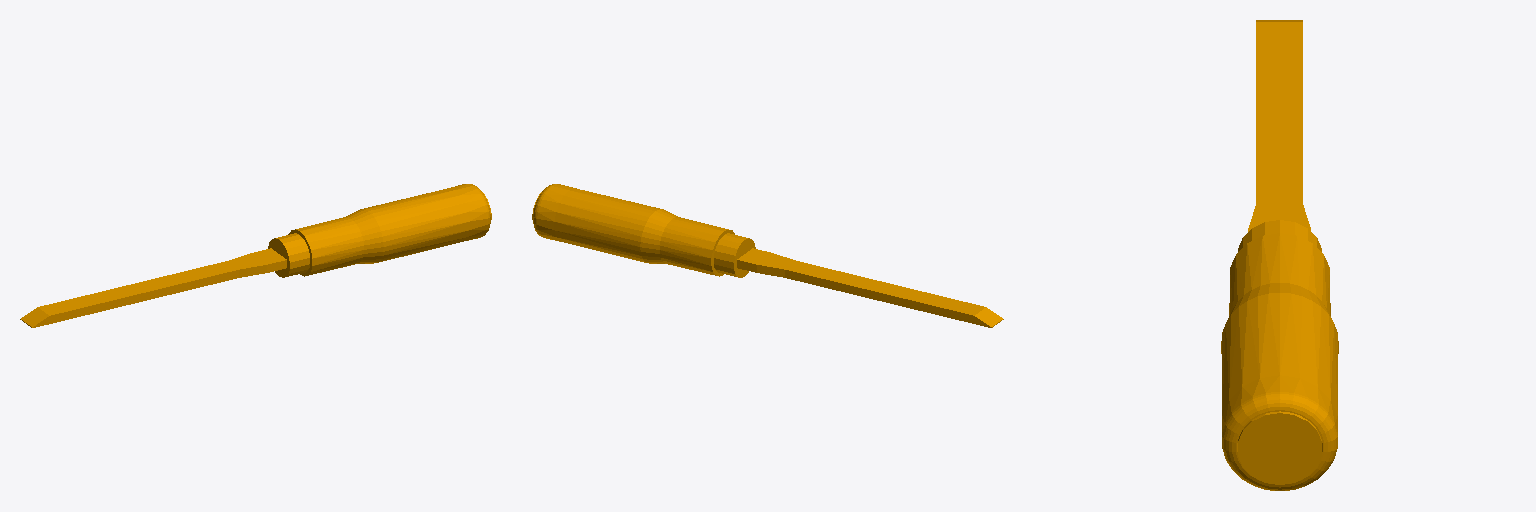
The robot description file, URDF, robot "chisel_1_L0.98_T0.91":
<?xml version="1.0" encoding="utf-8"?>
<robot name="chisel_1_L0.98_T0.91">
  <link name="chisel_1_L0.98_T0.91Link">
    <contact>
      <lateral_friction value="1"/>
    </contact>
    <inertial>
      <origin rpy="0 0 0" xyz="0 0 0"/>
      <mass value="0.0"/>
      <inertia ixx="0" ixy="0" ixz="0" iyy="0" iyz="0" izz="0"/>
    </inertial>
    <visual>
      <origin rpy="0 0 0" xyz="0 0 0"/>
      <geometry>
        <mesh filename="generated_stl/chisel/chisel_1/chisel_1_L0.98_T0.91/chisel_1_L0.98_T0.91.stl" scale="0.01 0.01 0.01"/>
      </geometry>
    </visual>
    <collision>
      <origin rpy="0 0 0" xyz="0 0 0"/>
      <geometry>
        <mesh filename="generated_stl/chisel/chisel_1/chisel_1_L0.98_T0.91/chisel_1_L0.98_T0.91.stl" scale="0.01 0.01 0.01"/>
      </geometry>
    </collision>
  </link>
</robot>

--- What the picture shows (computed from the rendered views, not written in the file) ---
The picture shows the robot from 3 angles, left to right: view 1: azimuth 30°, elevation 25°; view 2: azimuth 150°, elevation 25°; view 3: azimuth 270°, elevation 25°; orthographic projection.
Robot: chisel_1_L0.98_T0.91 — 1 links, 0 joints (none); root link chisel_1_L0.98_T0.91Link; default pose: every joint at zero.
Visible links, largest first — view 1: chisel_1_L0.98_T0.91Link; view 2: chisel_1_L0.98_T0.91Link; view 3: chisel_1_L0.98_T0.91Link.
Link boxes in pixels (left/top/right/bottom): chisel_1_L0.98_T0.91Link: left=20, top=184, right=491, bottom=327; chisel_1_L0.98_T0.91Link: left=532, top=184, right=1003, bottom=327; chisel_1_L0.98_T0.91Link: left=1221, top=20, right=1338, bottom=490.
Size in the robot's own frame: 0.0783 by 0.0089 by 0.0082 metres.
1 mesh visuals loaded from 1 distinct referenced files (1 binary STL).